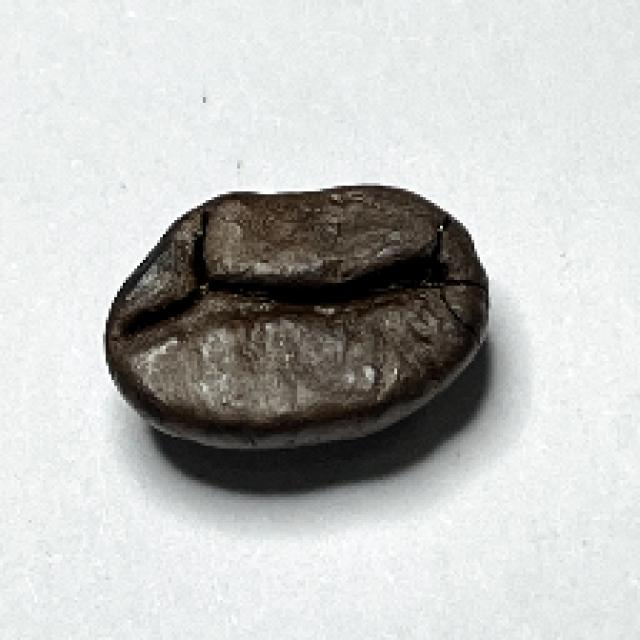bean: (99, 179, 494, 451)
